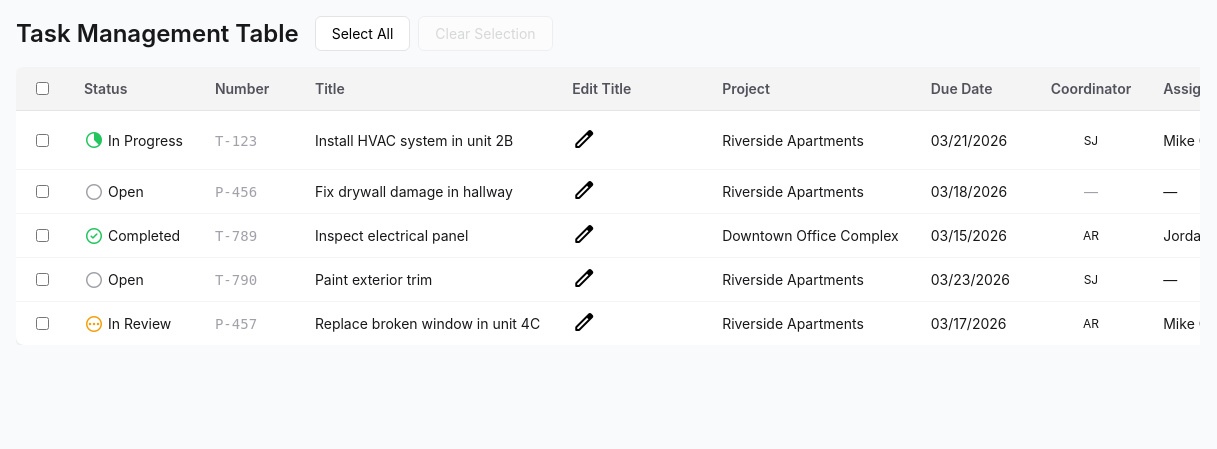
Scenario: App.svelte › Select All / Clear Selection selects/clears all tasks
The image size is (1217, 449).
Click the button "Select All".
click(363, 34)  # box [315, 16, 410, 51]
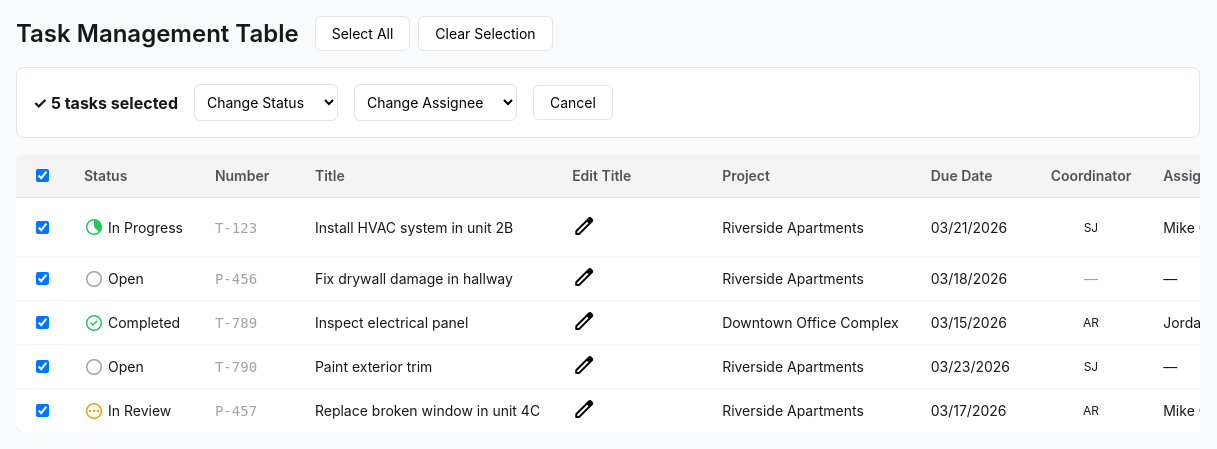
Expected: the text "✓ 5 tasks selected" is shown, [33, 92, 178, 112]
Click the button "Clear Selection".
click(485, 34)  # box [418, 16, 553, 51]
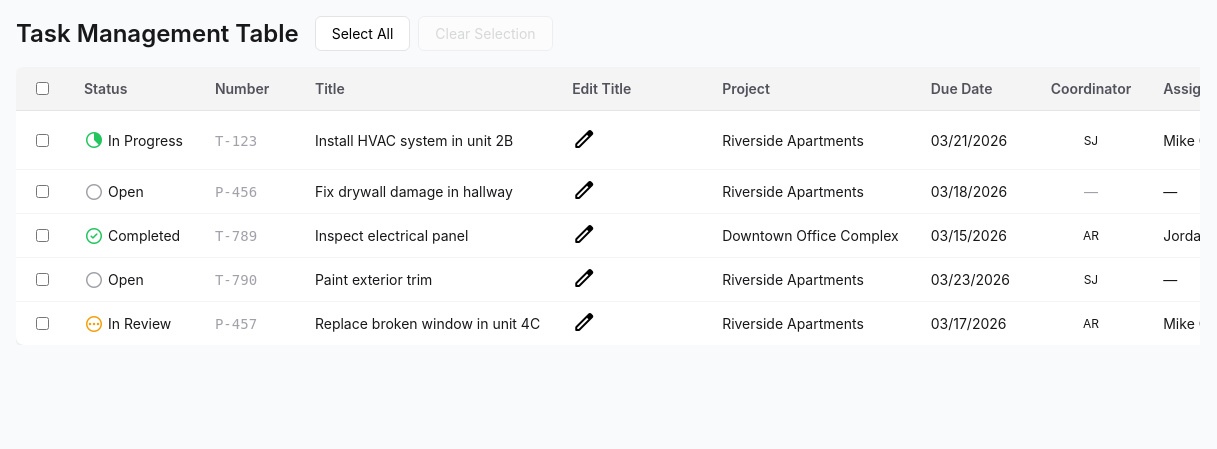
Expected: the text "tasks selected" is gone
